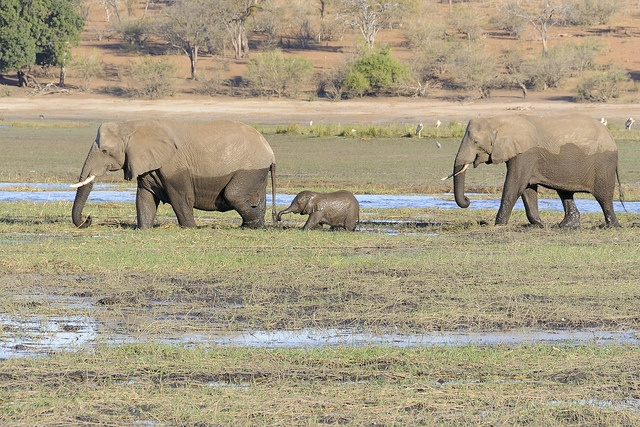elephant: (70, 117, 277, 228), (439, 109, 629, 229), (276, 188, 363, 229)
